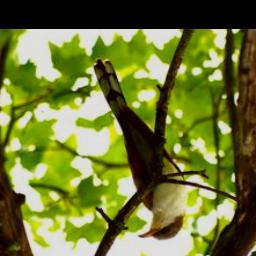Cuckoo: (92, 57, 188, 242)
